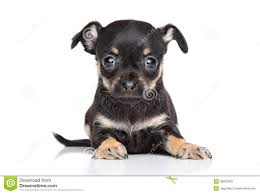chihuahua: (43, 15, 219, 166)
